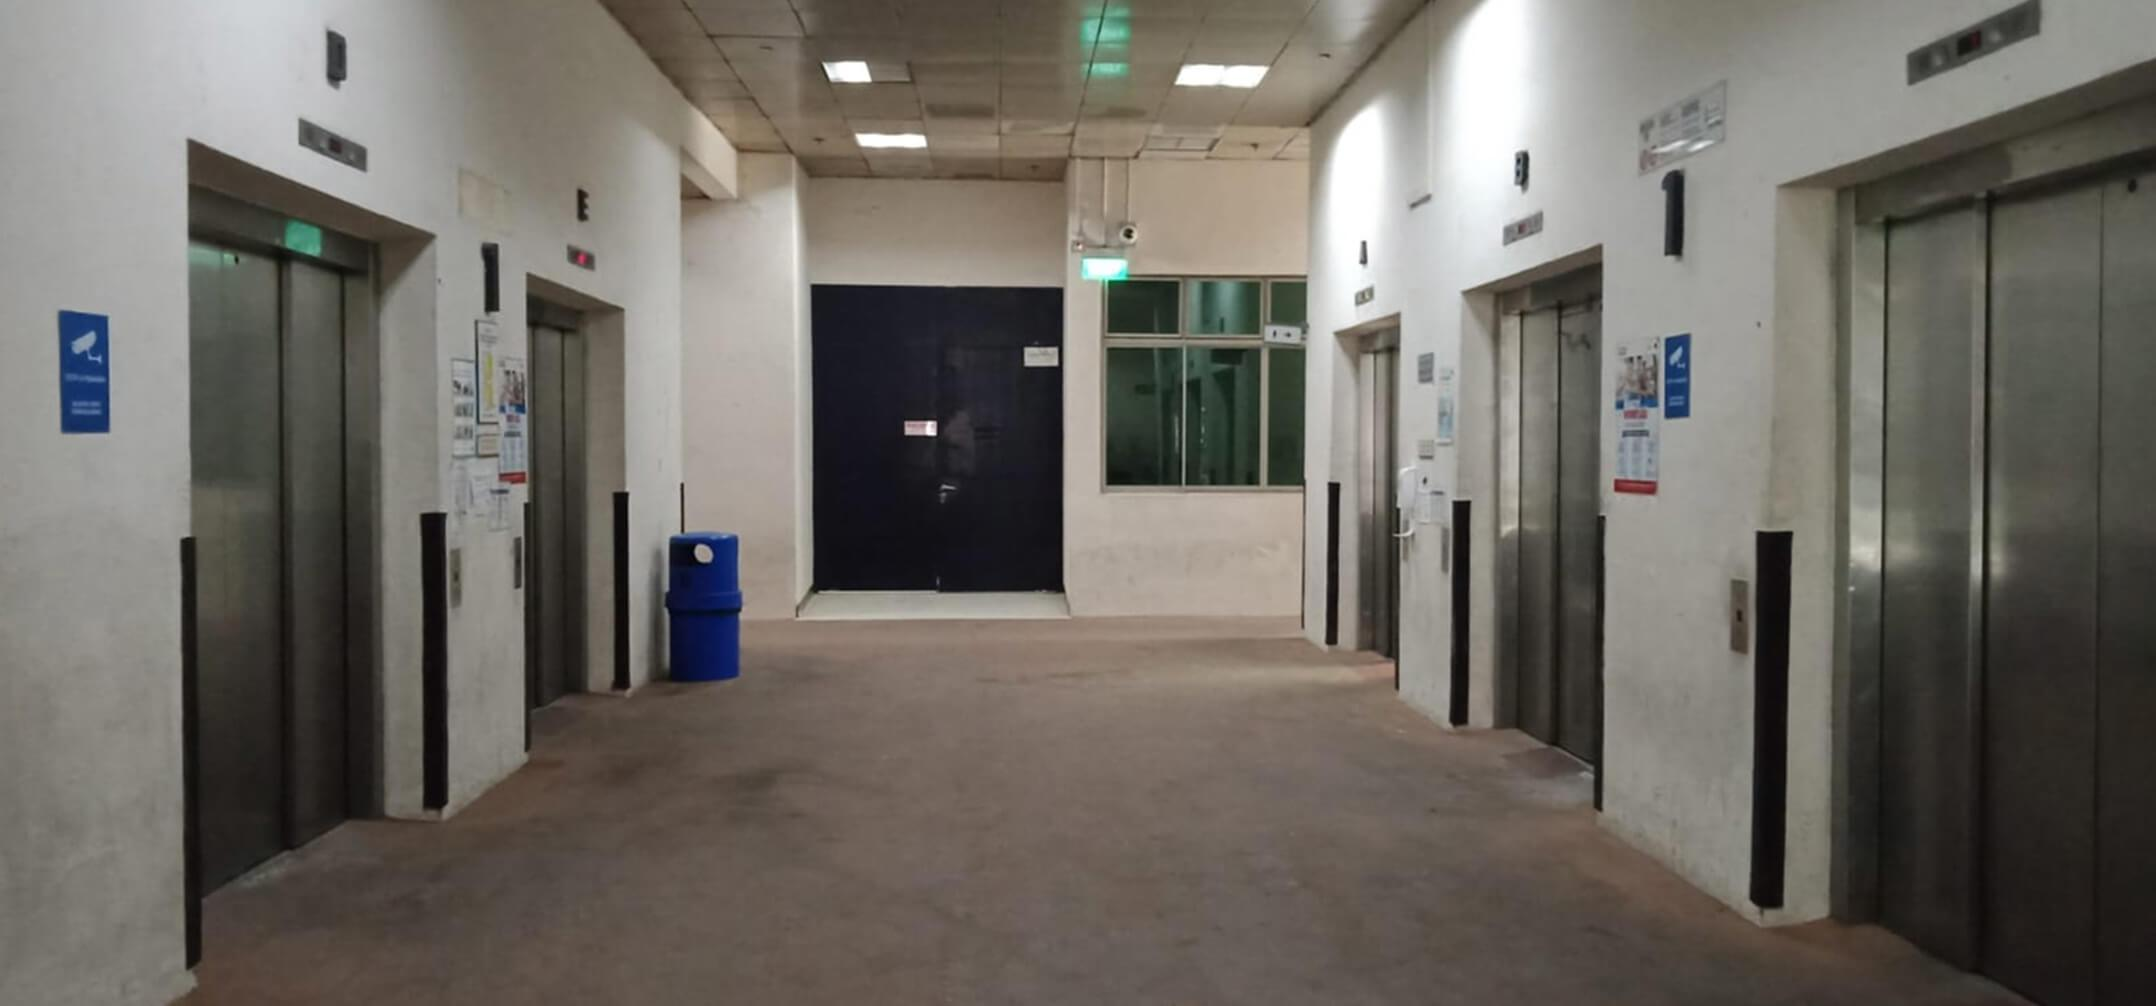exit: (806, 280, 1064, 596)
lit_exit_sign: (1079, 256, 1127, 282)
